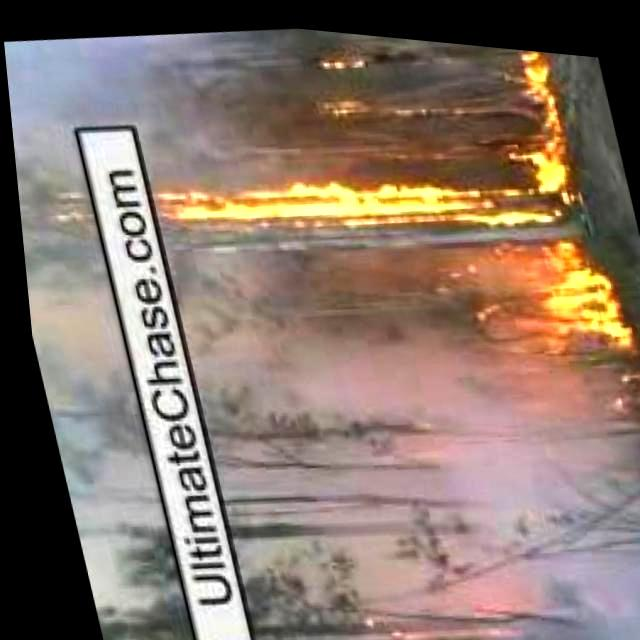fire: (134, 135, 510, 259), (469, 36, 611, 340), (314, 68, 462, 125), (144, 624, 268, 640), (314, 42, 370, 76), (343, 623, 444, 640)
